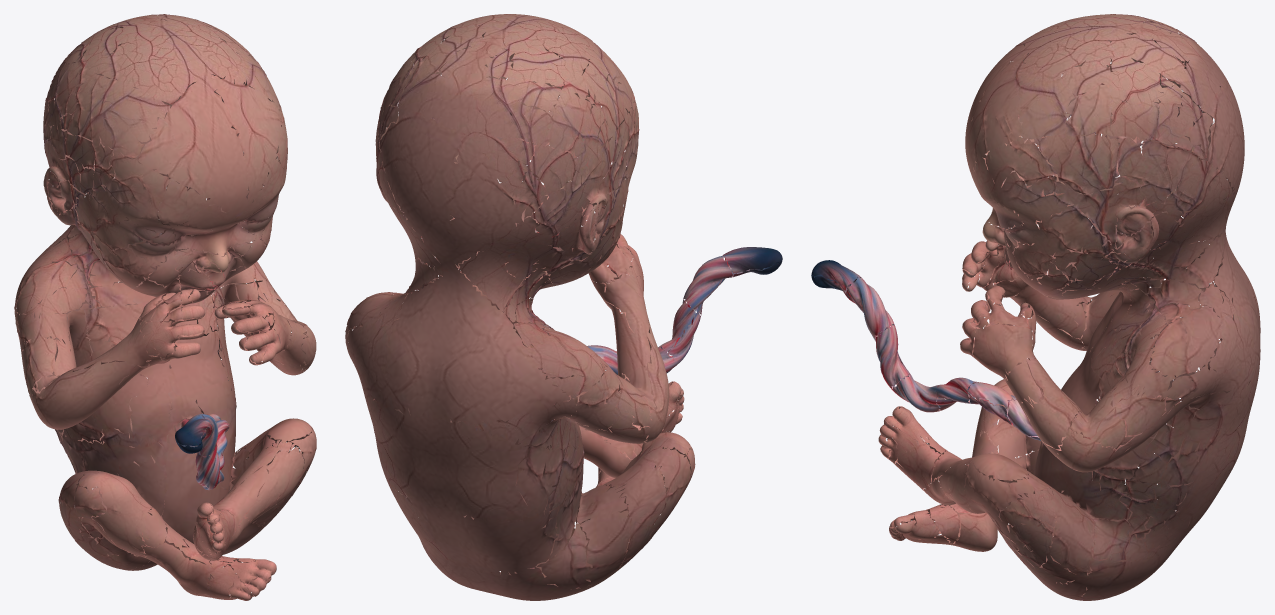
Rendered from stade-06.glb.
3 renders of one model, left to right at view 1: azimuth 30°, elevation 25°; view 2: azimuth 150°, elevation 25°; view 3: azimuth 270°, elevation 25°, orthographic. The views are drawn at different scales.
Size of the model in its own units: 1.02 by 1.9 by 1.4.
1 material, 1 textured.
